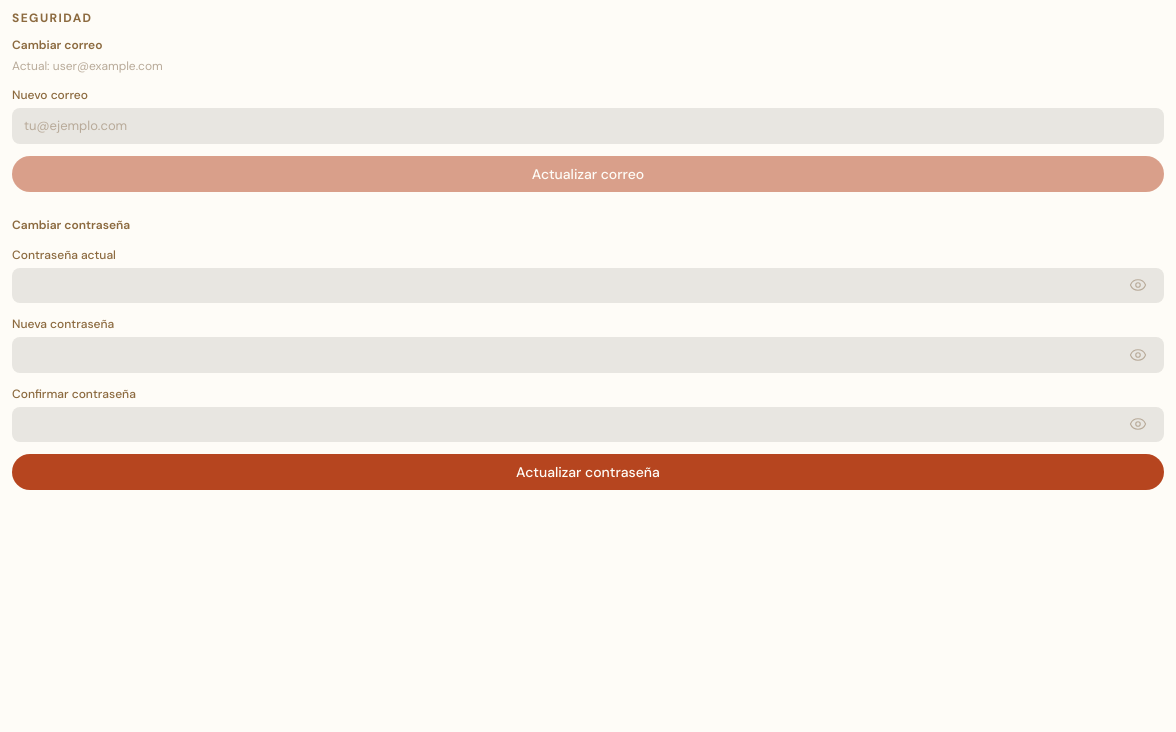
Test: SecurityForm › email error shows error message
This screenshot has width=1176, height=732.
Type "taken@example.com" into the field labelled "Nuevo correo" at x=588, y=126, box [12, 108, 1164, 144]
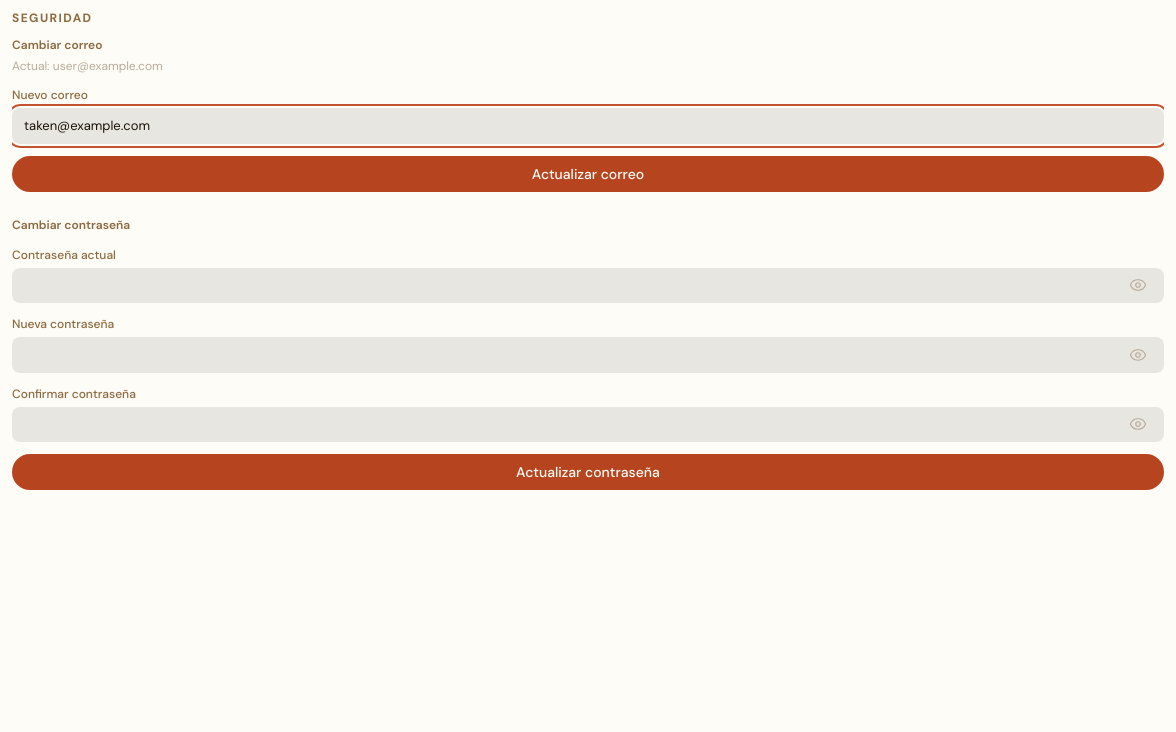
Click the button "Actualizar correo" at x=588, y=174, box [12, 156, 1164, 192]
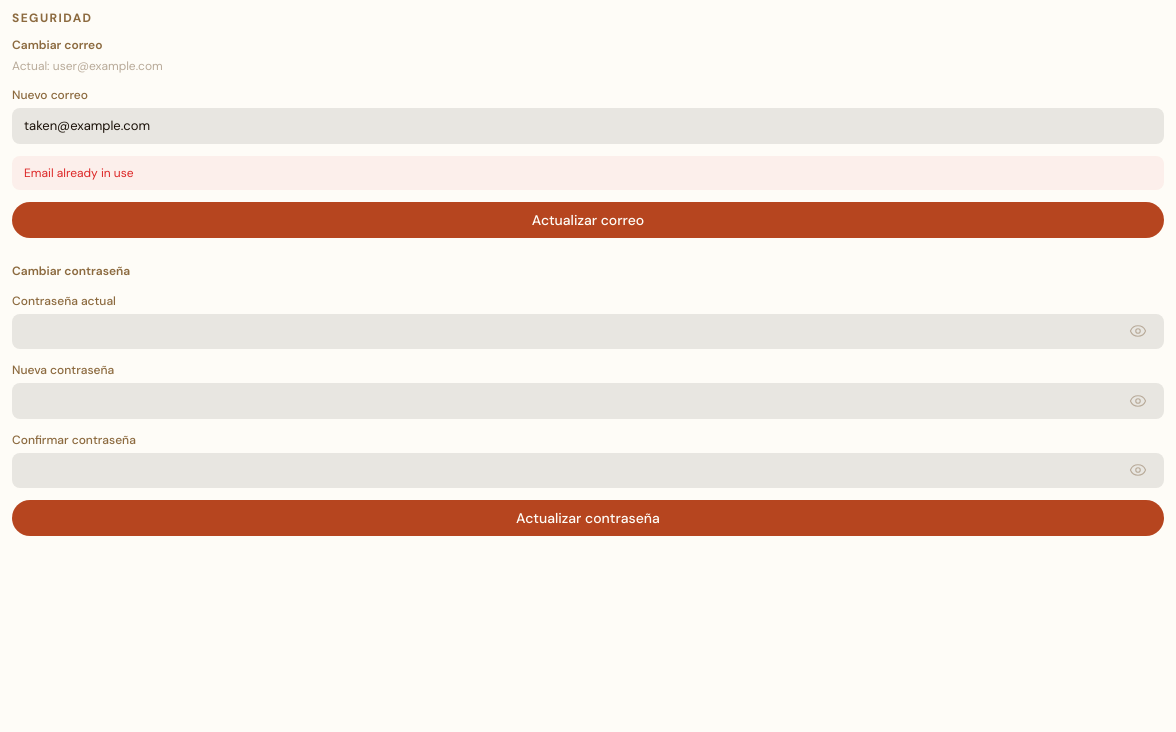
Expected: the text "Email already in use" is shown, [12, 156, 1164, 190]
